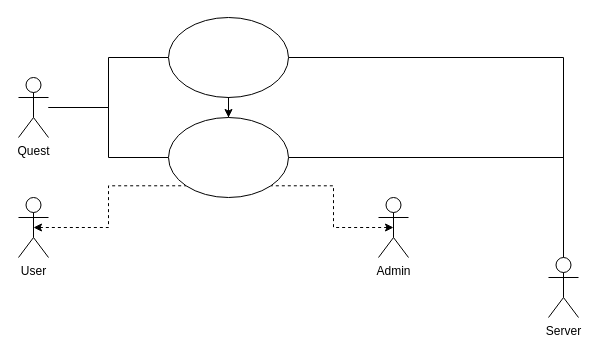
The diagram is 598 pixels wide and 356 high, and some of its shapes have lost their labels. Here are the shapes that lost their labels. From the top down, the centre of each, then its label:
At (x=228, y=57): "sign up".
At (x=228, y=157): "sign in".
